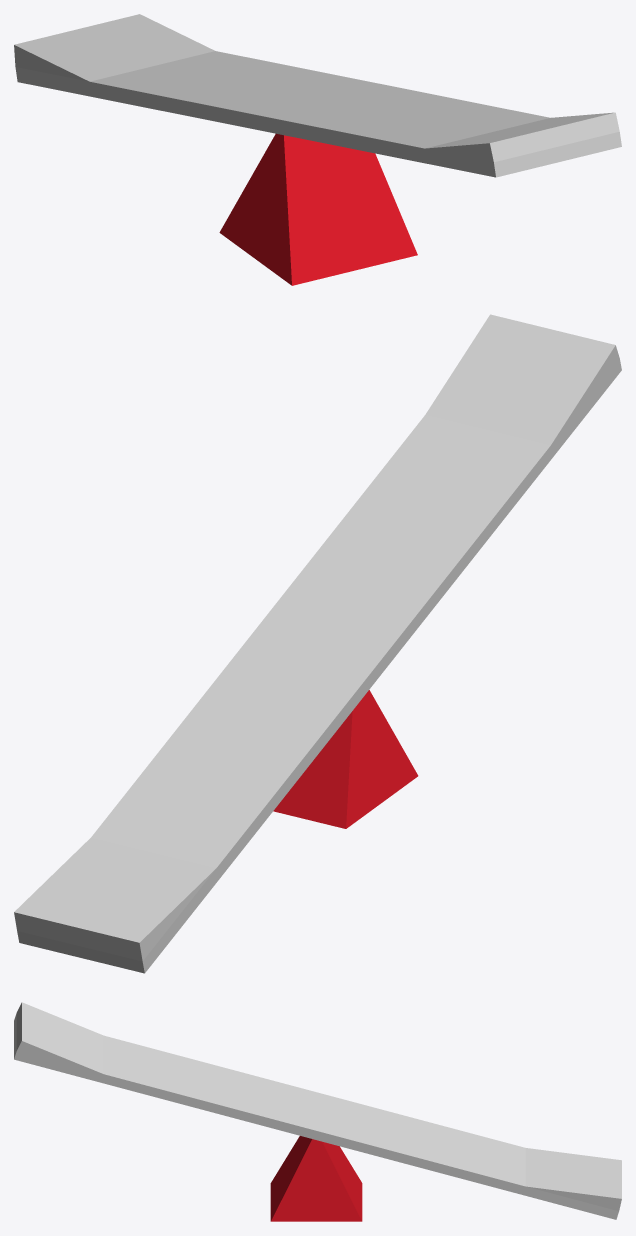
The model's file is kacheli.fbx.
3 views of the same model, one above another, from view 1: azimuth 30°, elevation 25°; view 2: azimuth 150°, elevation 25°; view 3: azimuth 270°, elevation 25° (orthographic). The views are drawn at different scales.
Visible parts, largest first — view 1: Куб.001, Куб; view 2: Куб.001, Куб; view 3: Куб.001, Куб.
Boxes of the visible parts, left/top/right/bottom form: Куб.001: left=14, top=14, right=621, bottom=177; Куб: left=219, top=133, right=417, bottom=285; Куб.001: left=14, top=314, right=621, bottom=973; Куб: left=273, top=690, right=418, bottom=828; Куб.001: left=14, top=1002, right=621, bottom=1219; Куб: left=270, top=1136, right=362, bottom=1221.
Bounding box in the file's own units: 201 × 436 × 1329.
